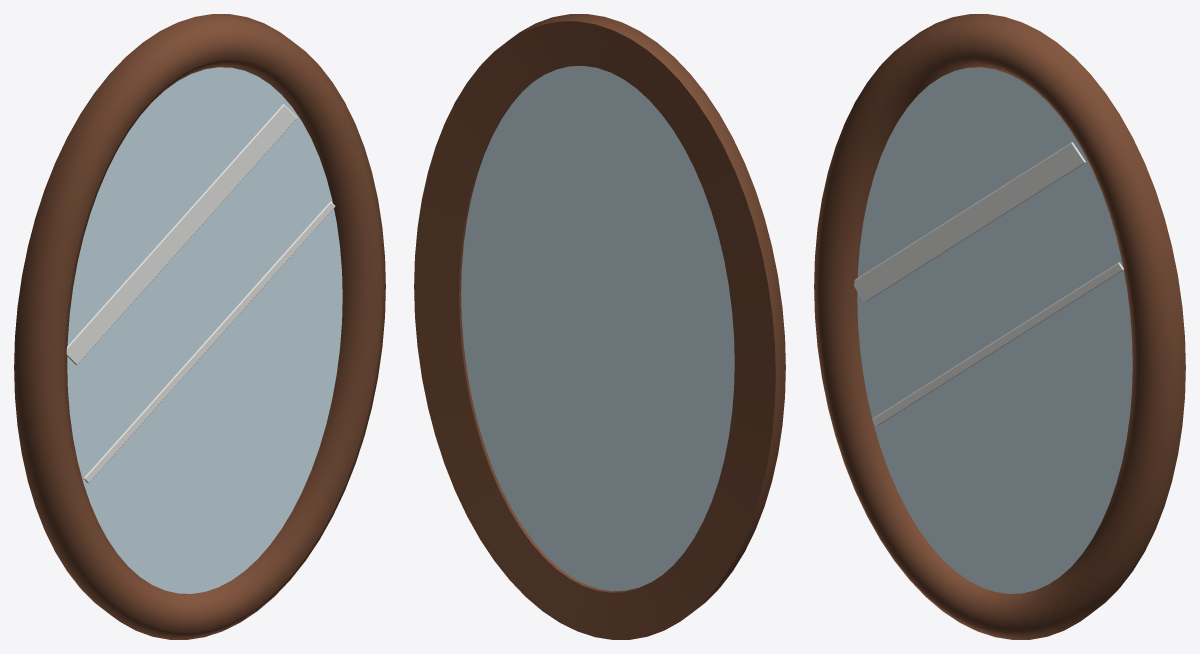
File: espelho_oval_marrom.glb
The picture shows the model from 3 angles, left to right: view 1: azimuth 30°, elevation 25°; view 2: azimuth 150°, elevation 25°; view 3: azimuth 330°, elevation 25°; orthographic projection.
Visible parts, largest first — view 1: espelho_oval_marrom; view 2: espelho_oval_marrom; view 3: espelho_oval_marrom.
Boxes of the visible parts, <box> form: espelho_oval_marrom: <box>14,14,385,639</box>; espelho_oval_marrom: <box>414,14,785,639</box>; espelho_oval_marrom: <box>814,14,1185,639</box>.
Bounding box in the file's own units: 0.42 × 0.68 × 0.035.
Materials: 2 (1 with a texture image).
